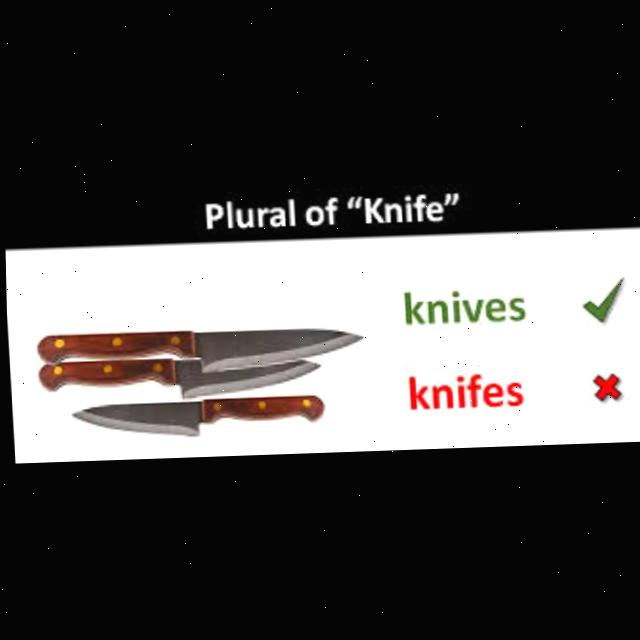Knife: (34, 323, 362, 368), (35, 351, 320, 401), (68, 393, 322, 438)
